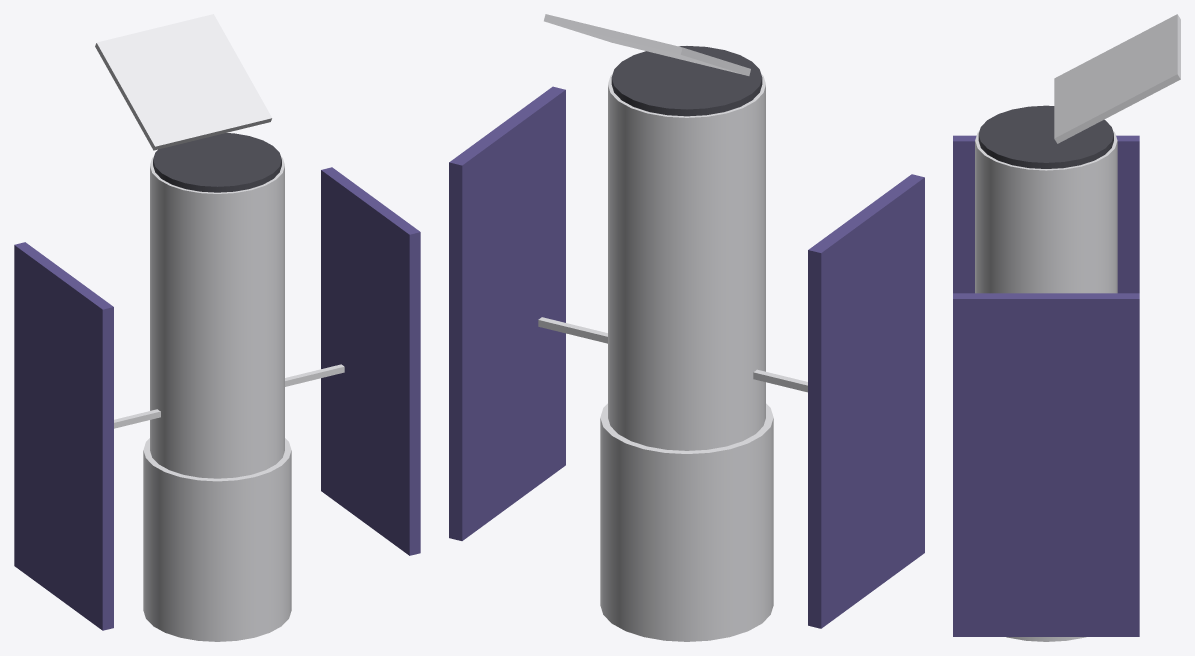
The model's file is hubble.glb.
The picture shows the model from 3 angles, left to right: view 1: azimuth 30°, elevation 25°; view 2: azimuth 150°, elevation 25°; view 3: azimuth 270°, elevation 25°; orthographic projection. The views are drawn at different scales.
Parts seen in each view (by area): view 1: Hubble; view 2: Hubble; view 3: Hubble.
Boxes of the visible parts, <box> form: Hubble: <box>14,14,420,641</box>; Hubble: <box>449,14,924,641</box>; Hubble: <box>953,14,1180,641</box>.
Bounding box in the file's own units: 1.14 × 1.84 × 0.6719.
